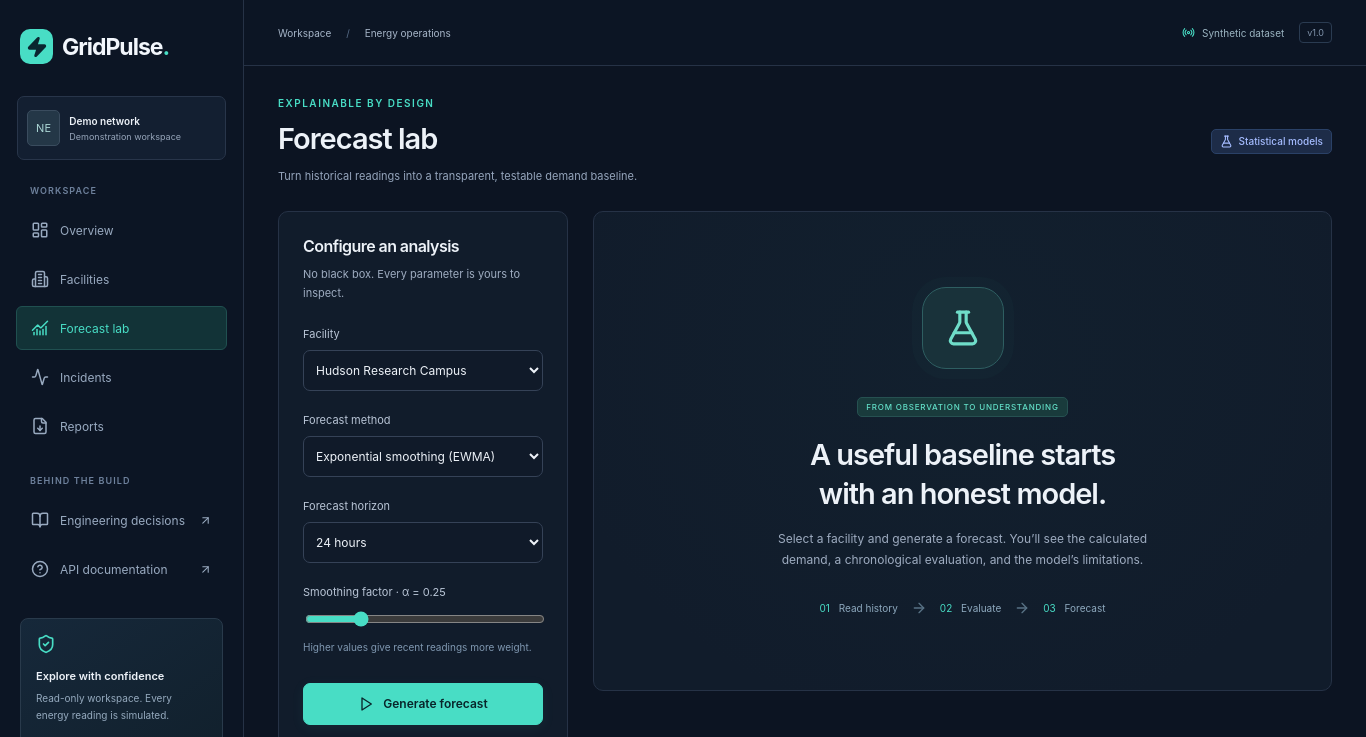
Test case: Operations interface with mocked API transport › runs a configured forecast and displays calculated error metrics
Check: the button "Generate forecast" is shown, box [303,683,543,725]
Select "Moving average" in the dropdown labelled "Forecast method" at (423, 456), box [303,436,543,477]
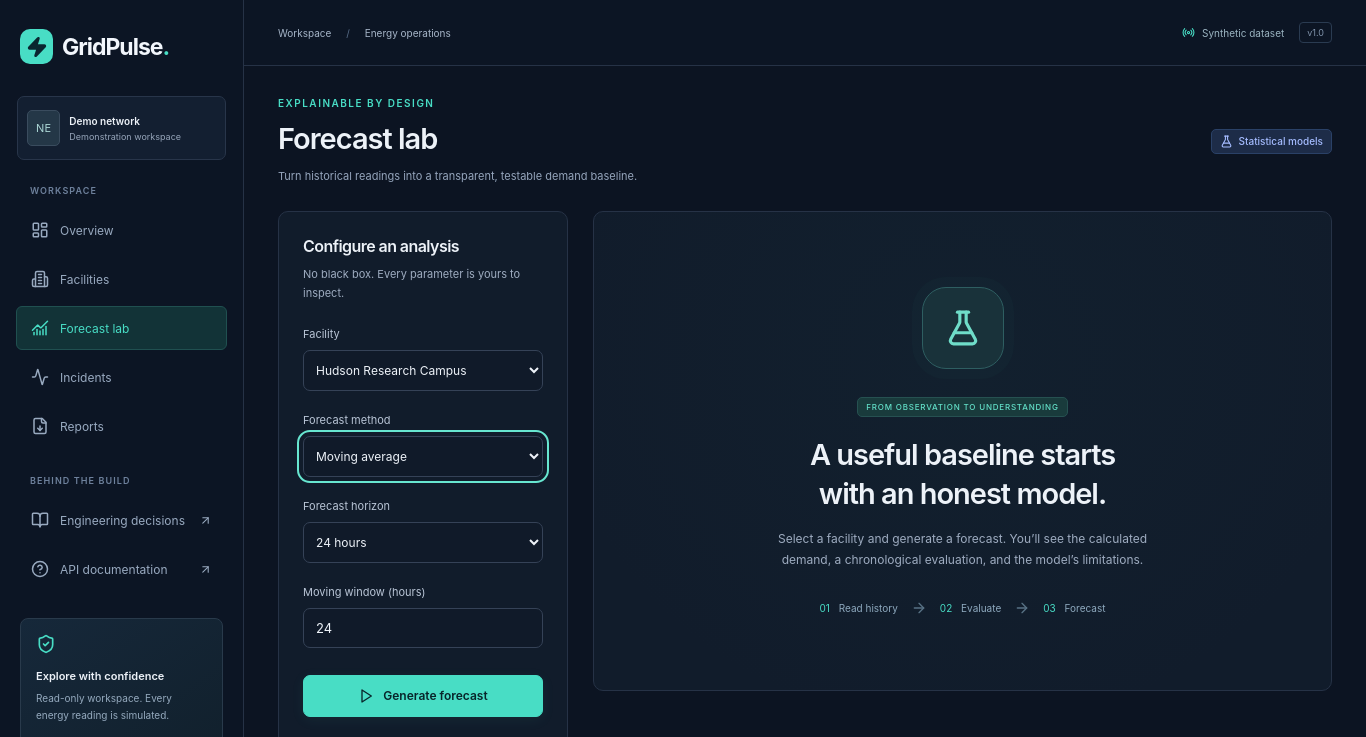
Click the button "Generate forecast" at (423, 696), box [303,675,543,717]
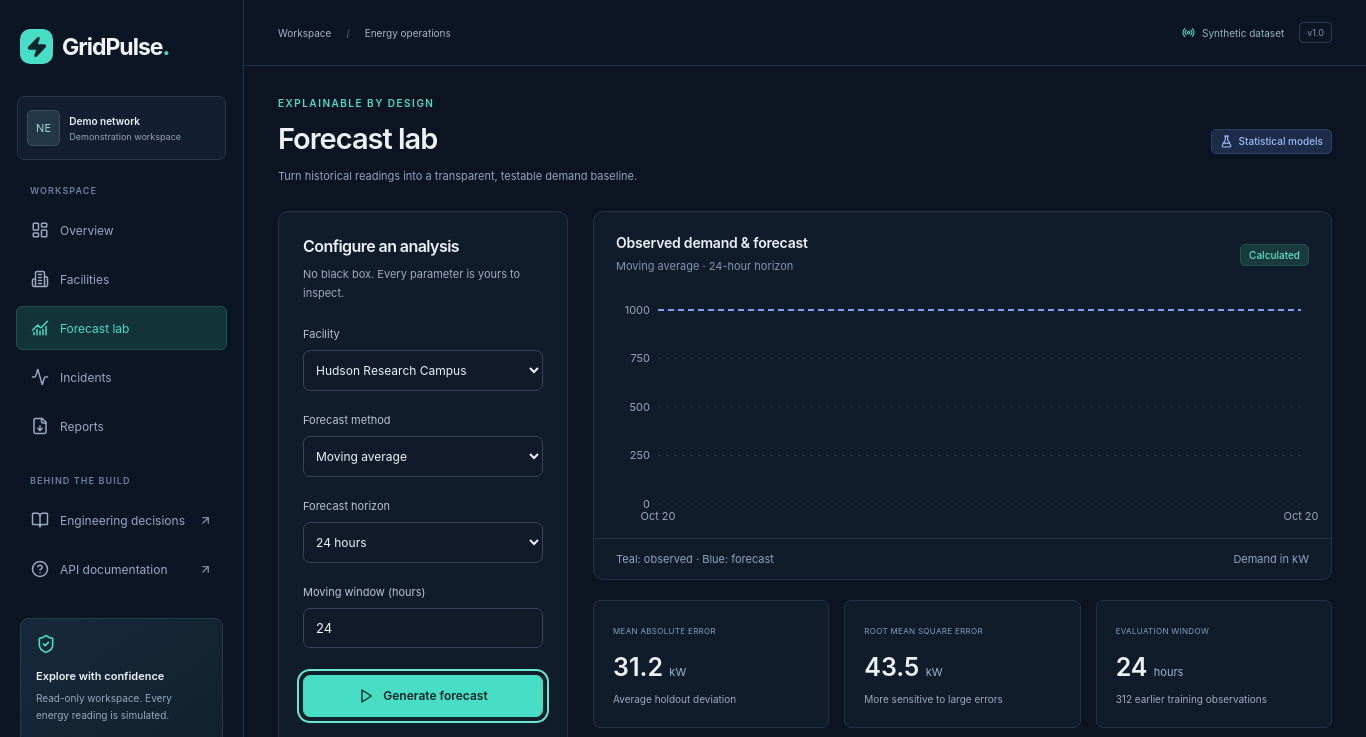
Check: the text "31.2" is shown, box [613,652,663,682]
